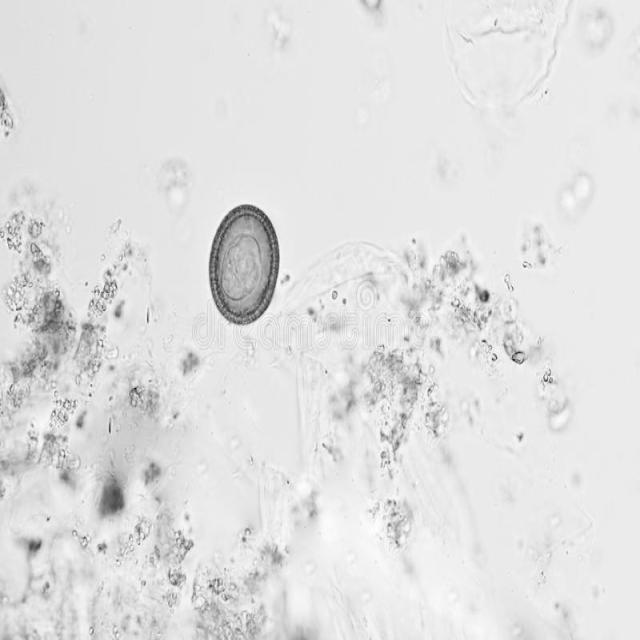Taenia Sp: (201, 198, 283, 327)
